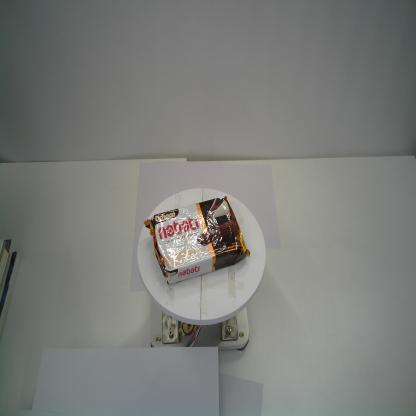Dessert: (142, 193, 251, 286)
